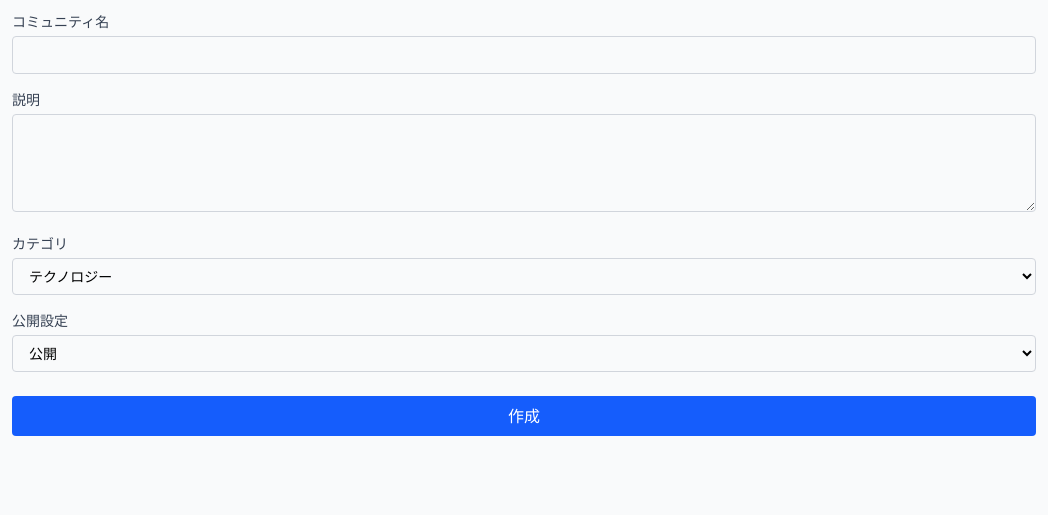
Scenario: CommunityCreateForm コンポーネント › 両方未入力で送信するとバリデーションエラーを表示する
The image size is (1048, 515).
Click the button "作成" at (524, 416), box 12,396 -> 1036,436
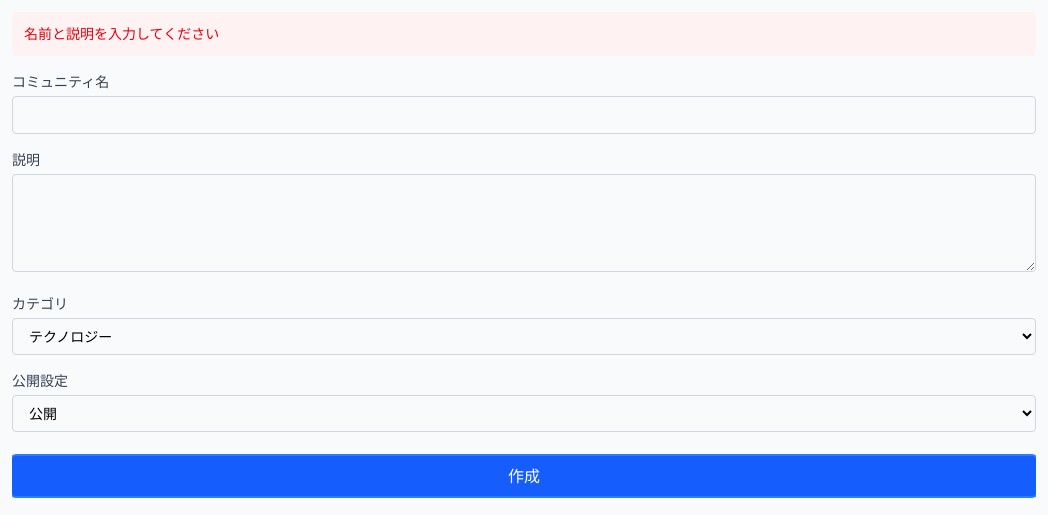
Check: the message reads "名前と説明を入力してください", box 24,25 -> 219,42
